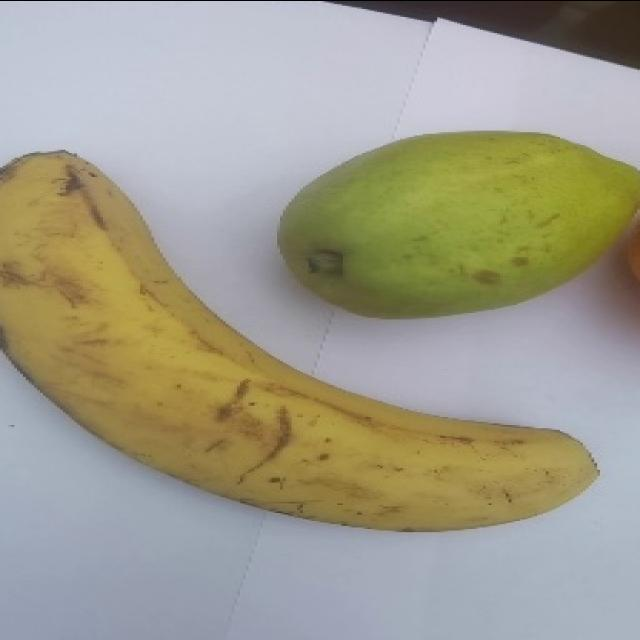Banana: (0, 148, 602, 536)
